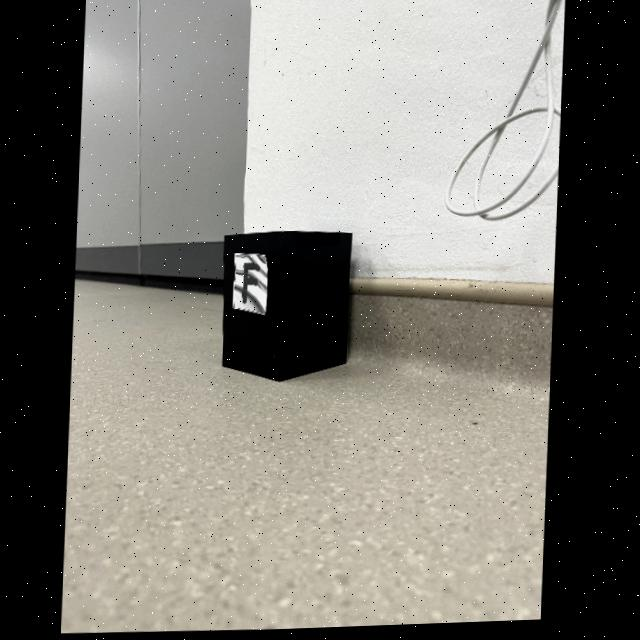F: (243, 264, 261, 305)
